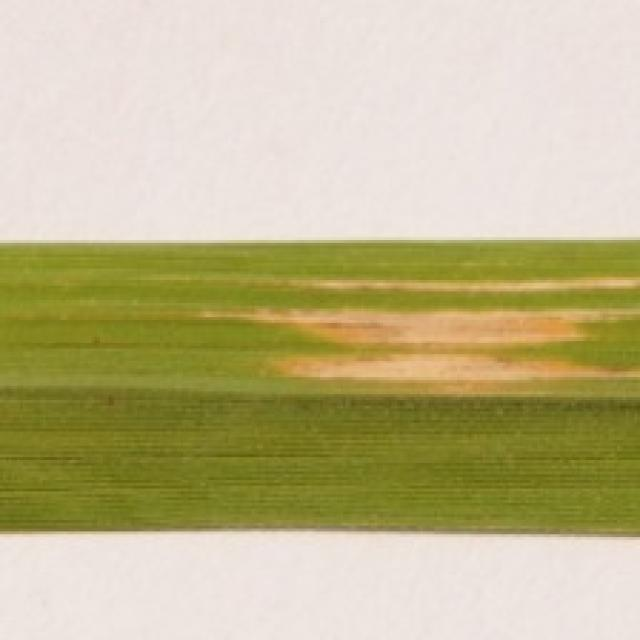Rice___Bacterial_Leaf_Blight: (0, 235, 637, 536)
